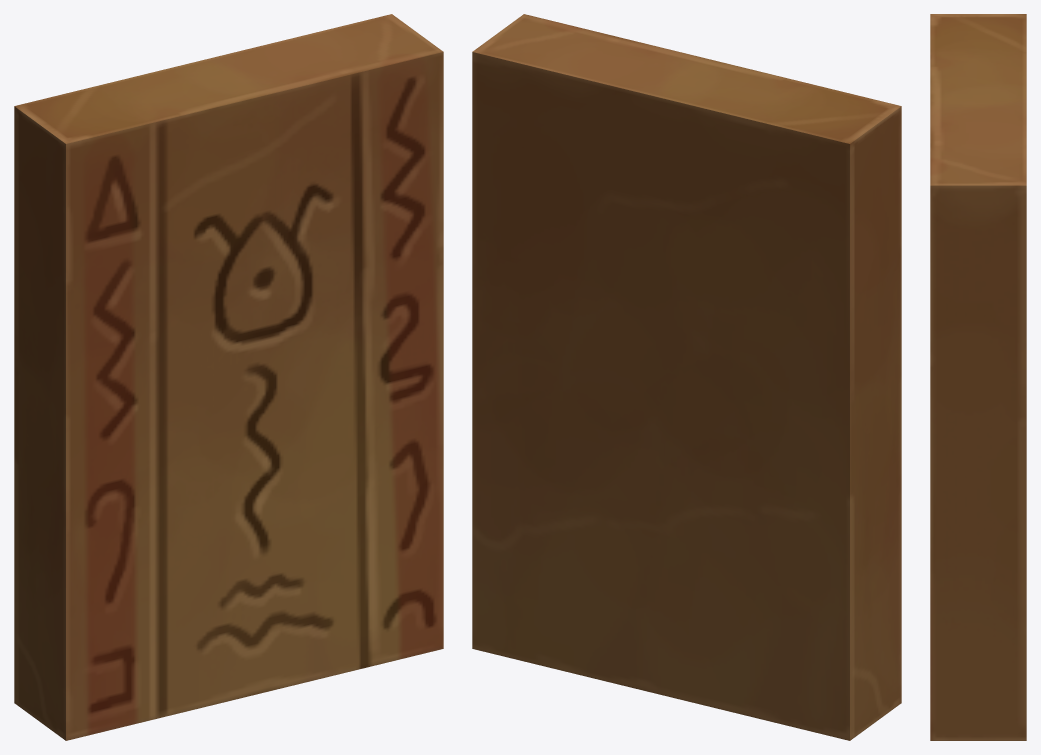
File: td_stone_bar.fbx
3 renders of one model, left to right at view 1: azimuth 30°, elevation 25°; view 2: azimuth 150°, elevation 25°; view 3: azimuth 270°, elevation 25°, orthographic. The views are drawn at different scales.
Visible parts, largest first — view 1: td_stone_bar; view 2: td_stone_bar; view 3: td_stone_bar.
Part boxes in pixels (<box>): td_stone_bar: <box>14,14,443,740</box>; td_stone_bar: <box>472,14,901,740</box>; td_stone_bar: <box>930,14,1026,740</box>.
Bounding box in the file's own units: 0.7059 × 1.07 × 0.1677.
